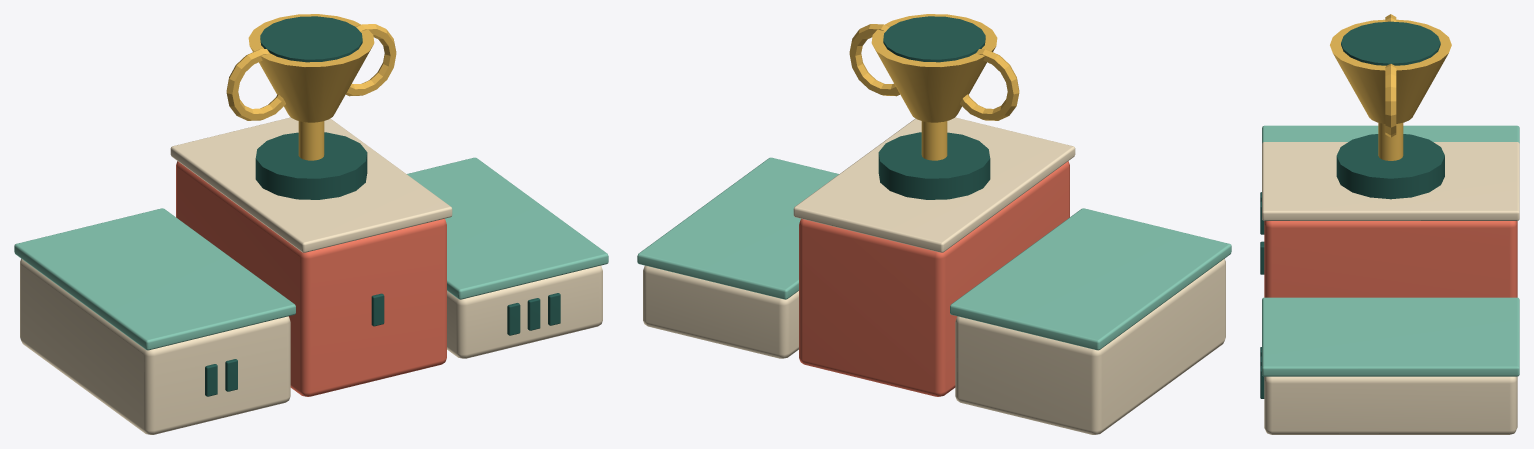
Rendered from athlete_podium.glb.
3 views of the same model, side by side, from view 1: azimuth 30°, elevation 25°; view 2: azimuth 150°, elevation 25°; view 3: azimuth 270°, elevation 25° (orthographic). The views are drawn at different scales.
Parts seen in each view (by area): view 1: athlete_podium__cream, athlete_podium__mint, athlete_podium__coral, athlete_podium__ink, athlete_podium__gold; view 2: athlete_podium__cream, athlete_podium__mint, athlete_podium__coral, athlete_podium__ink, athlete_podium__gold; view 3: athlete_podium__cream, athlete_podium__mint, athlete_podium__coral, athlete_podium__ink, athlete_podium__gold.
Part boxes in pixels (box(x1,y1,x2,y2)): athlete_podium__cream: box(20, 117, 602, 434); athlete_podium__mint: box(14, 157, 608, 350); athlete_podium__coral: box(176, 161, 446, 396); athlete_podium__ink: box(205, 16, 560, 396); athlete_podium__gold: box(226, 14, 396, 160); athlete_podium__cream: box(643, 117, 1225, 434); athlete_podium__mint: box(637, 157, 1231, 350); athlete_podium__coral: box(799, 161, 1069, 396); athlete_podium__ink: box(878, 16, 990, 199); athlete_podium__gold: box(849, 14, 1019, 160); athlete_podium__cream: box(1262, 142, 1519, 434); athlete_podium__mint: box(1262, 125, 1519, 376); athlete_podium__coral: box(1264, 221, 1517, 297); athlete_podium__ink: box(1260, 21, 1444, 398); athlete_podium__gold: box(1330, 14, 1451, 160).
Size of the model in its own units: 2.28 by 1.41 by 1.15.
